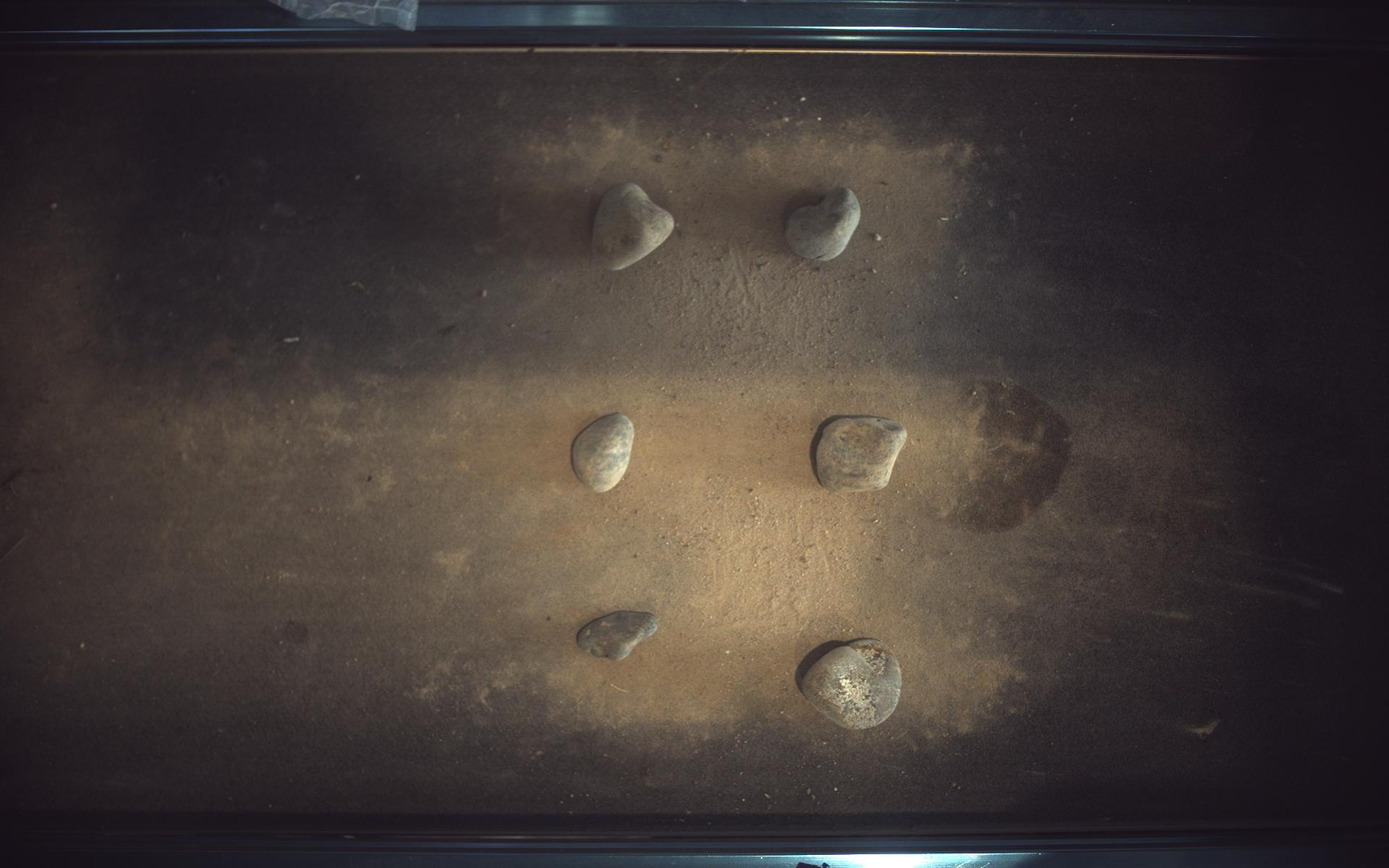stone: (803, 639, 903, 731), (594, 182, 676, 271), (817, 416, 909, 493), (787, 187, 862, 260), (572, 414, 635, 493), (577, 611, 659, 662)
